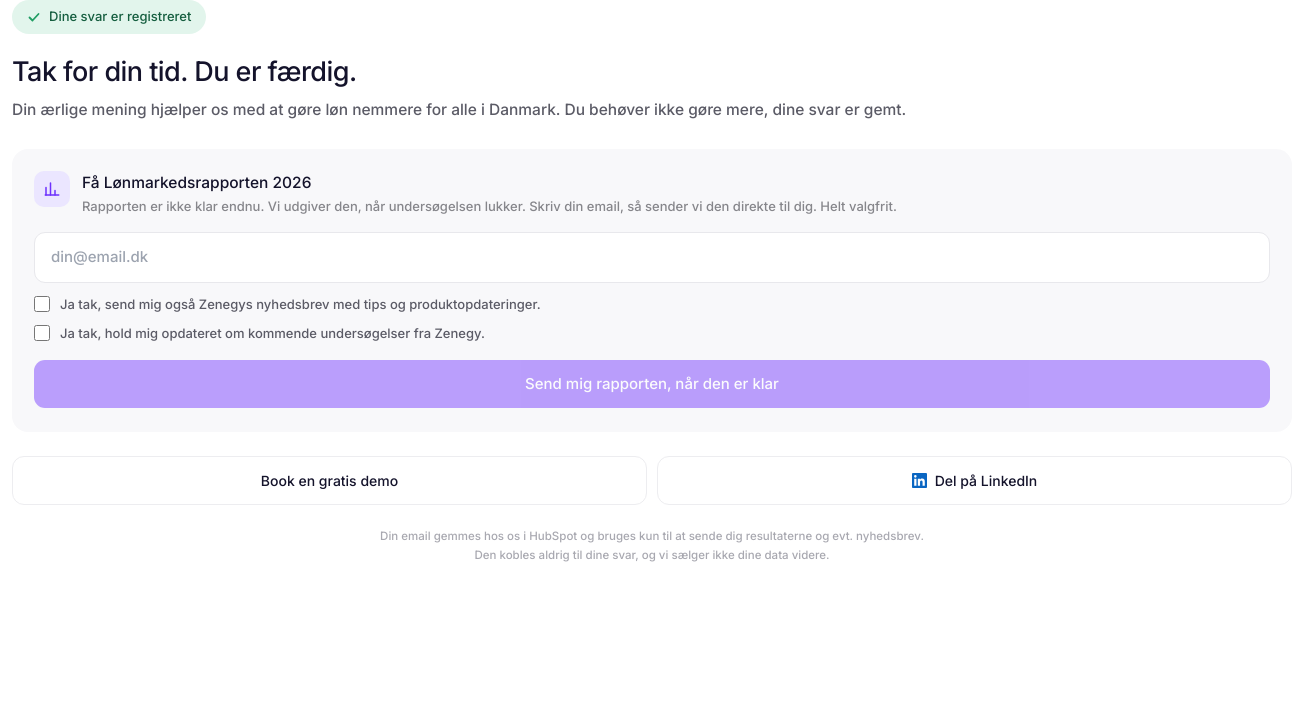
Test: ThankYou (merged completion page) › email opt-in goes to the separate report signup, not the submission
Type "a@b.dk" into the field with placeholder "din@email.dk". click: (652,258)
box: [34, 232, 1270, 283]
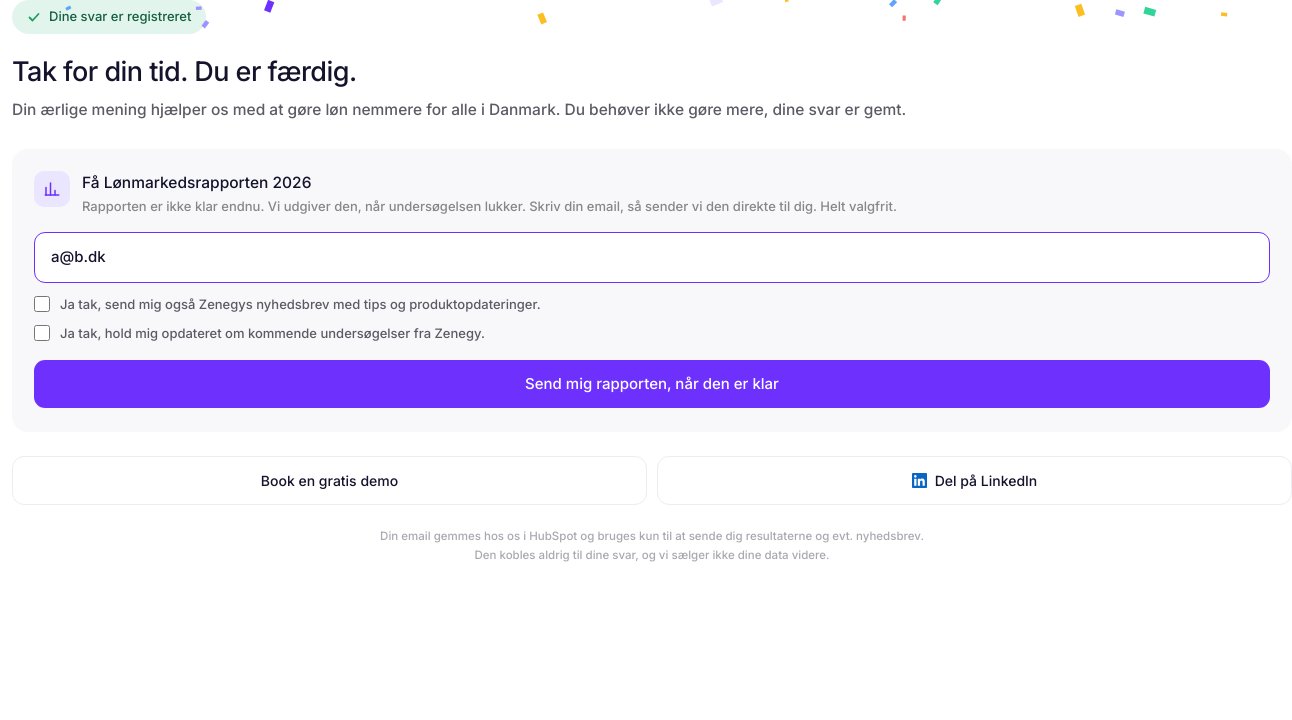
Click the button "Send mig rapporten, når den er klar". click: (652,384)
box: [34, 360, 1270, 408]
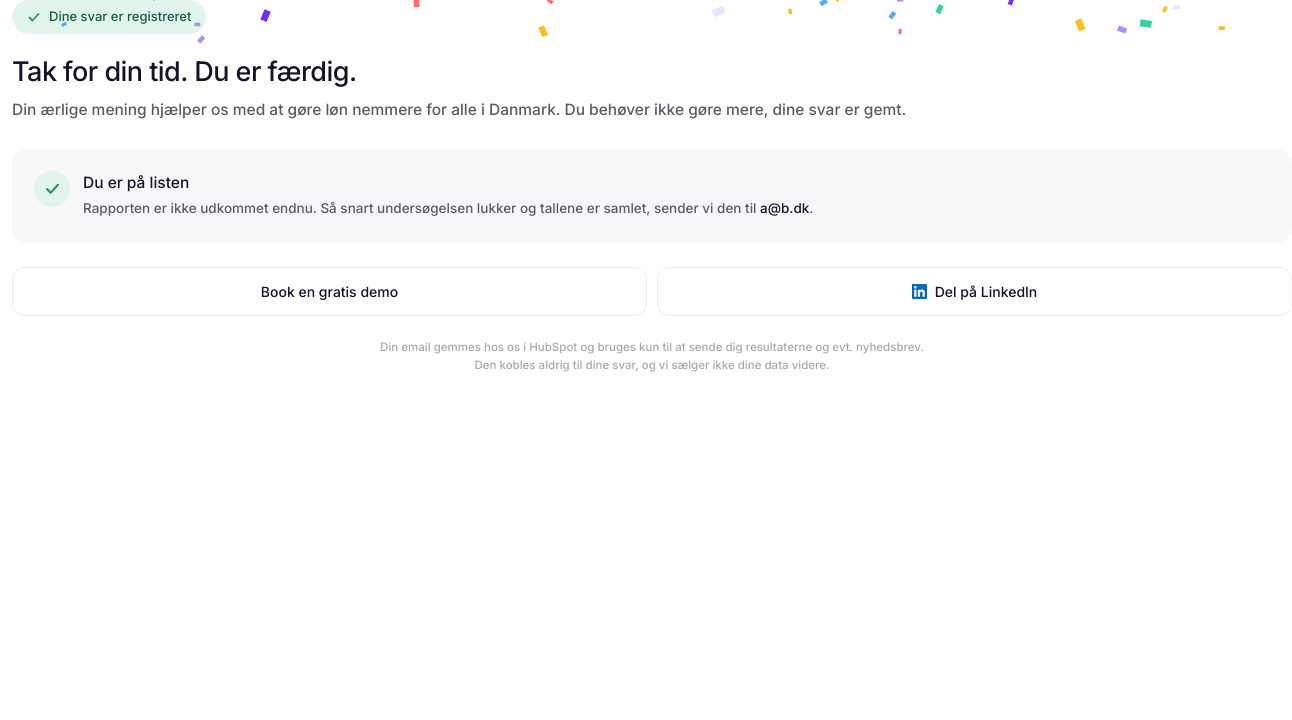
Now the text "Du er på listen" is shown, box [83, 173, 189, 192]
